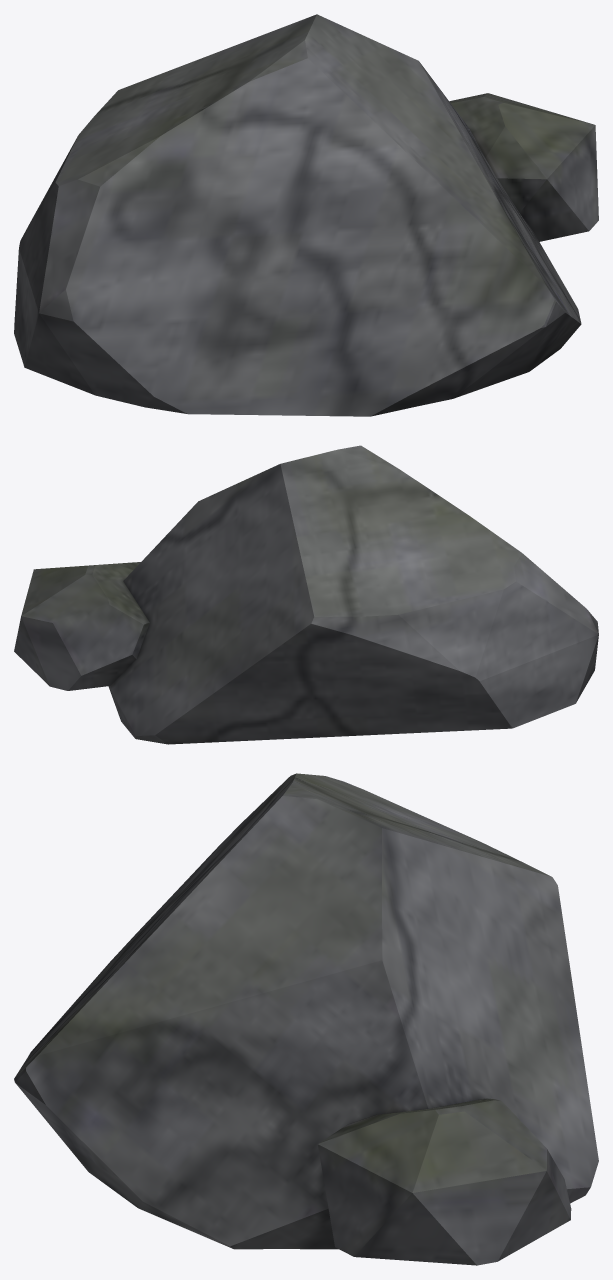
Rendered from kiesel.glb.
The picture shows the model from 3 angles, top to bottom: view 1: azimuth 30°, elevation 25°; view 2: azimuth 150°, elevation 25°; view 3: azimuth 270°, elevation 25°; orthographic projection. The views are drawn at different scales.
Visible parts, largest first — view 1: kiesel; view 2: kiesel; view 3: kiesel.
Part boxes in pixels (x1,y1,x2,y2): kiesel: [14, 14, 598, 416]; kiesel: [14, 445, 598, 744]; kiesel: [14, 773, 598, 1265].
Size of the model in its own units: 1.14 by 0.5271 by 0.8413.
Materials: 1 (1 with a texture image).
